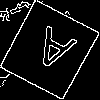A: (24, 25, 78, 82)
